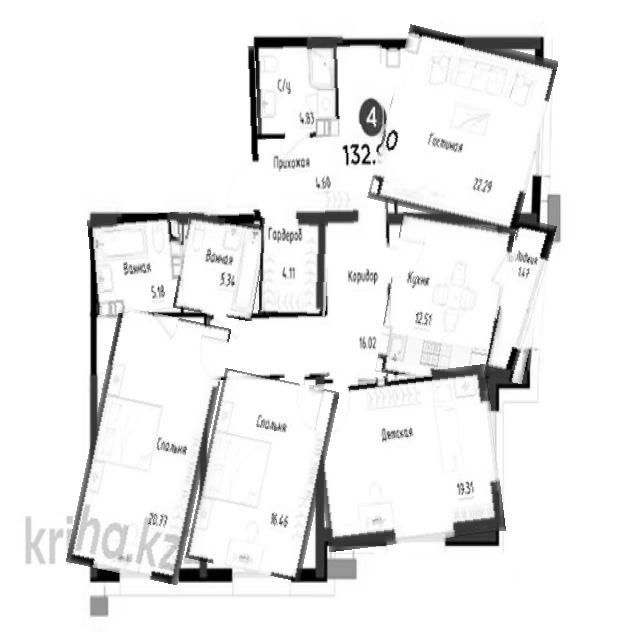balcony: (492, 219, 549, 383)
bathroom: (90, 214, 186, 314), (177, 215, 265, 318), (256, 38, 340, 139)
hallway: (208, 41, 392, 380)
kitchen: (381, 217, 509, 387)
living_room: (79, 311, 219, 581), (376, 32, 548, 227), (314, 370, 502, 548), (195, 373, 330, 577)
other: (259, 219, 328, 315)
